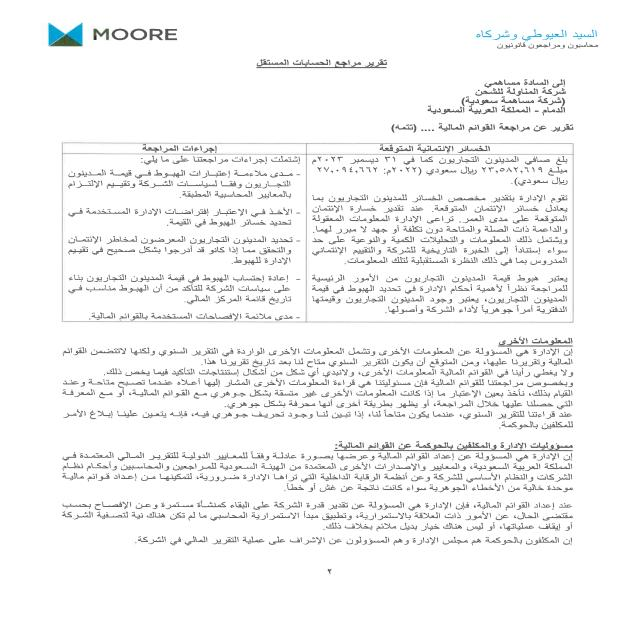auditor_report: (242, 53, 412, 73), (387, 121, 580, 137)
